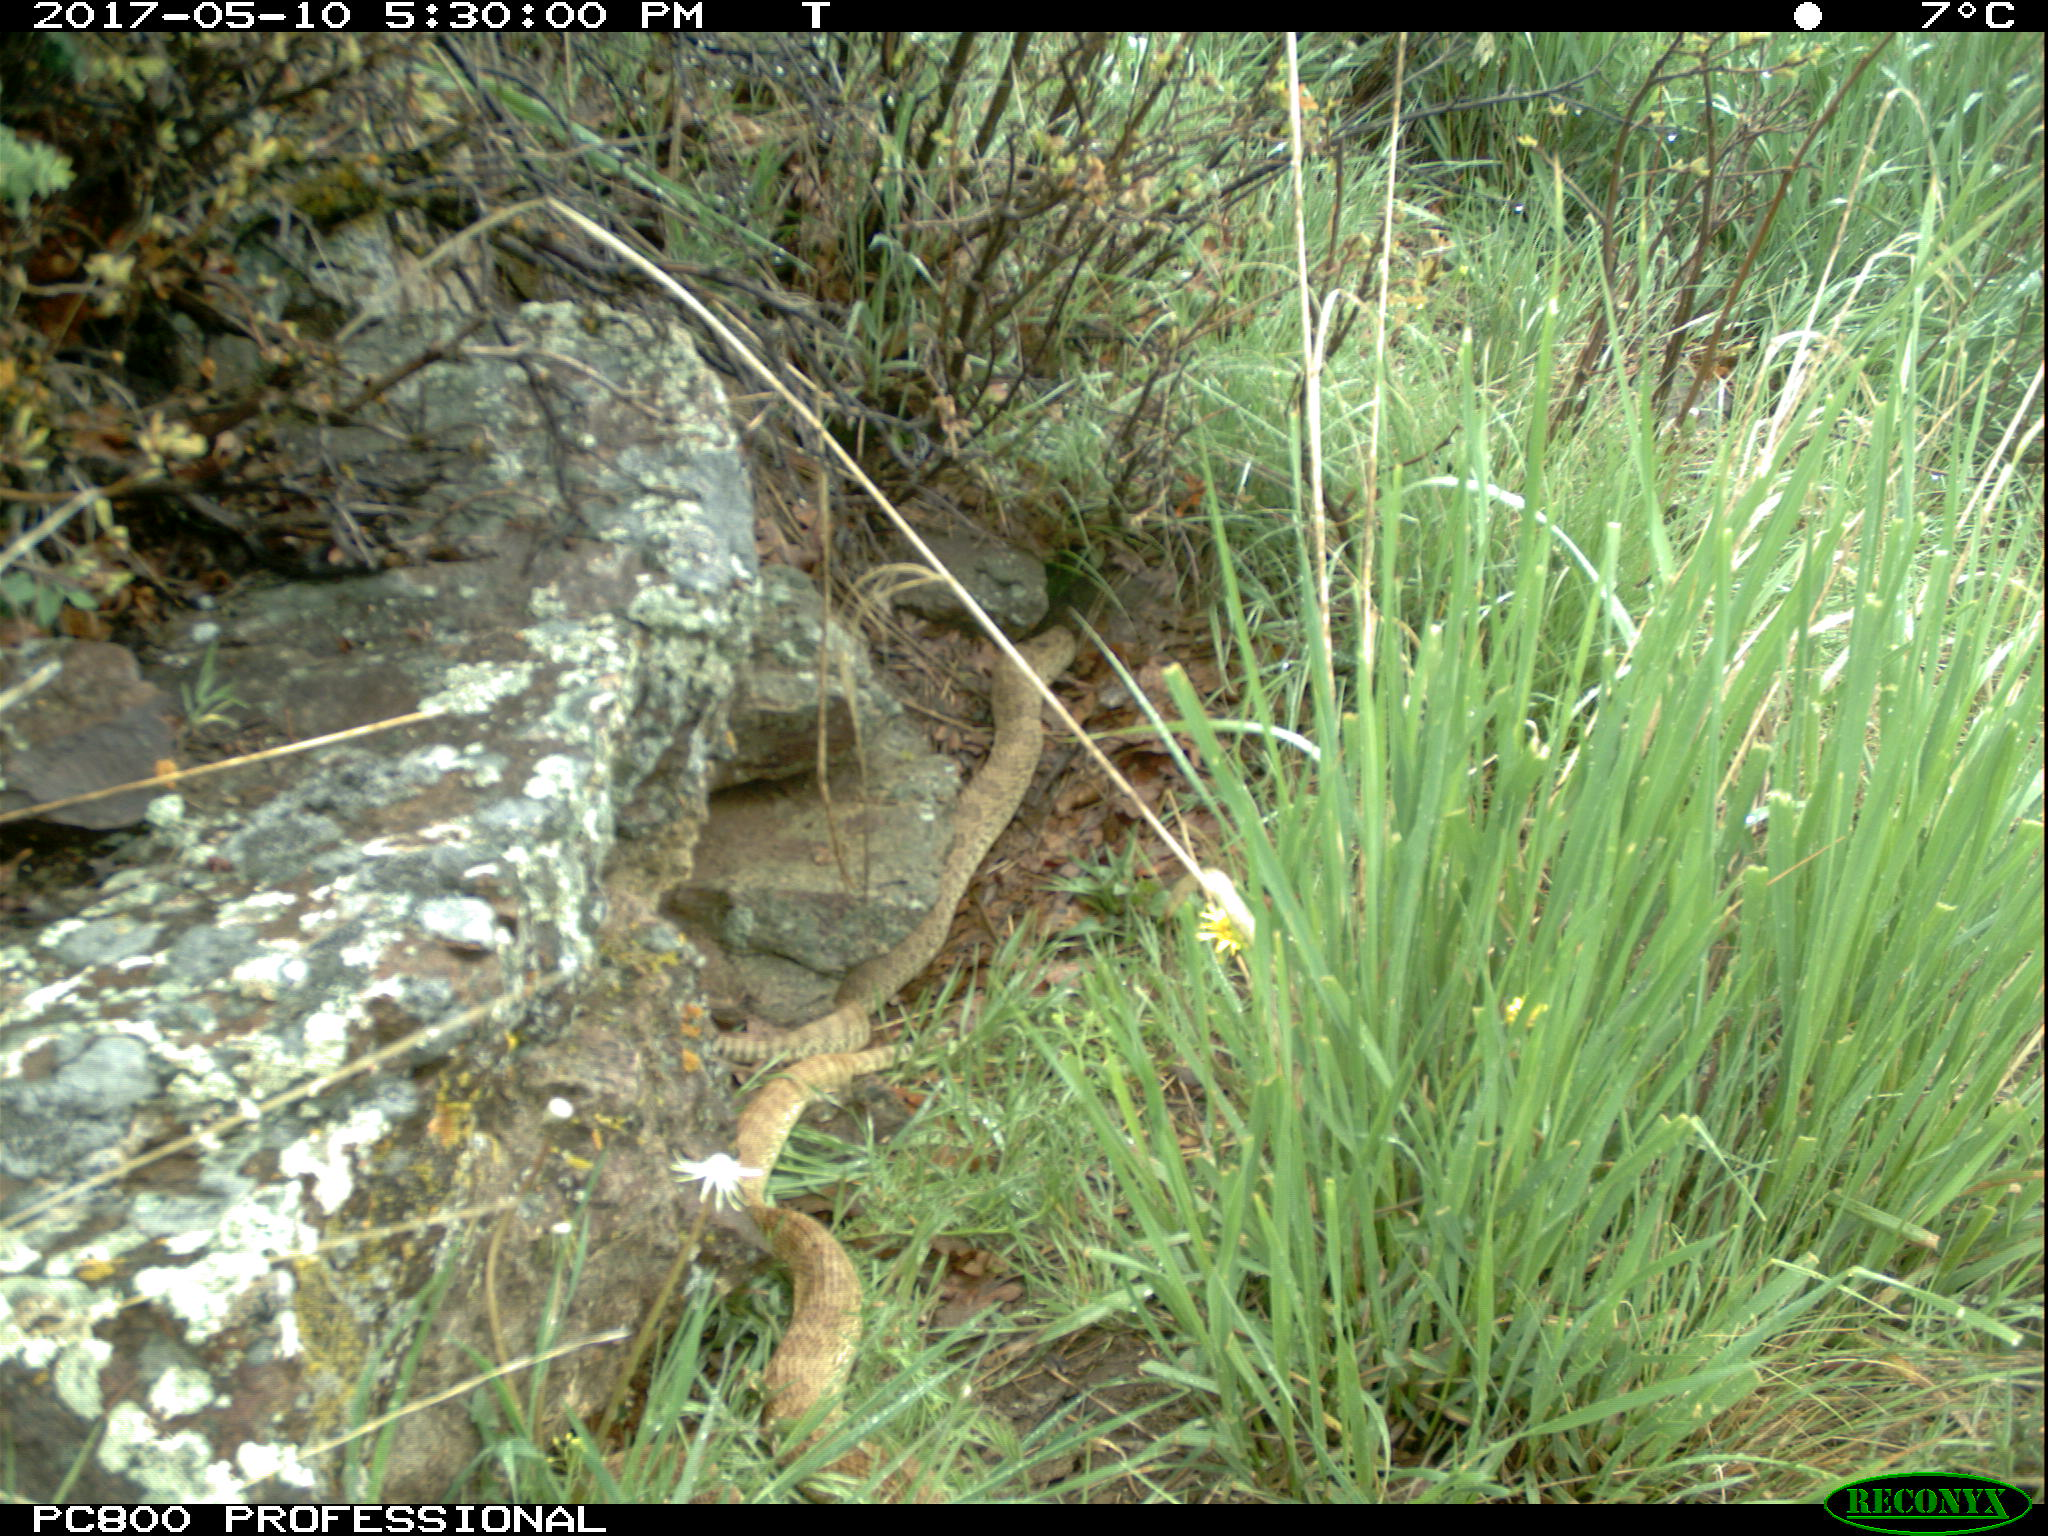snake: (811, 626, 1077, 1012), (731, 1071, 945, 1505), (700, 1012, 926, 1076)
